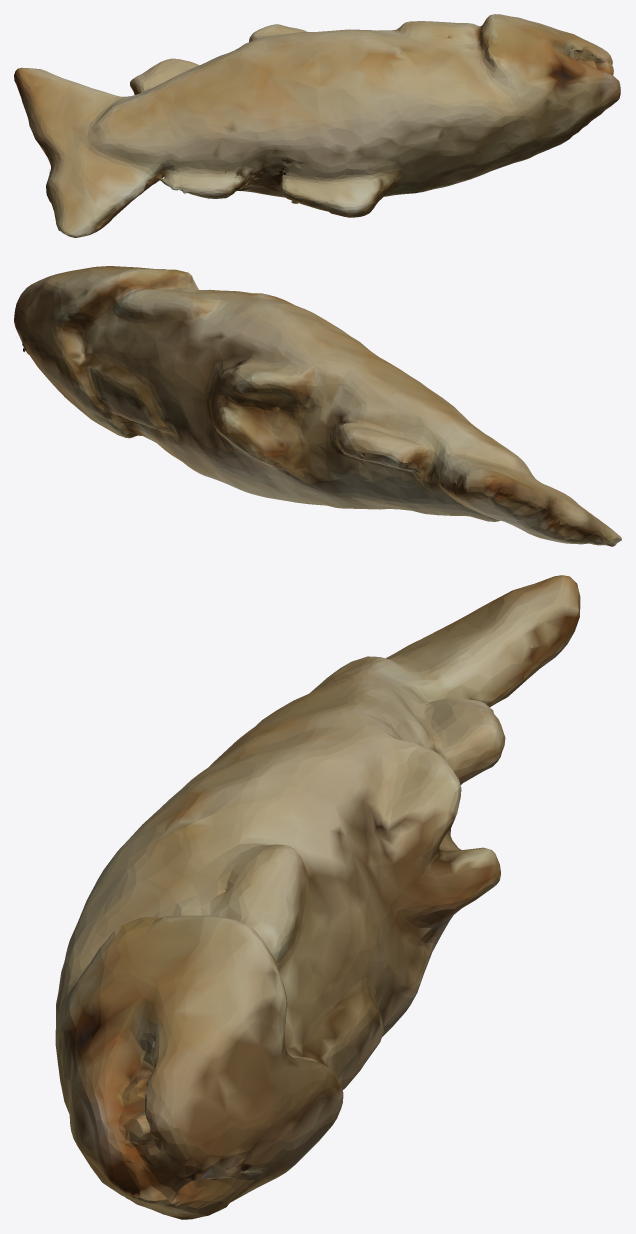
Rendered from Trout.glb.
3 renders of one model, top to bottom at view 1: azimuth 30°, elevation 25°; view 2: azimuth 150°, elevation 25°; view 3: azimuth 270°, elevation 25°, orthographic. The views are drawn at different scales.
Visible parts, largest first — view 1: Mesh; view 2: Mesh; view 3: Mesh.
Boxes of the visible parts, bbox=[...] form: Mesh: bbox=[14, 14, 620, 237]; Mesh: bbox=[14, 266, 621, 546]; Mesh: bbox=[55, 575, 580, 1219].
Bounding box in the file's own units: 101 × 28.26 × 43.21.
